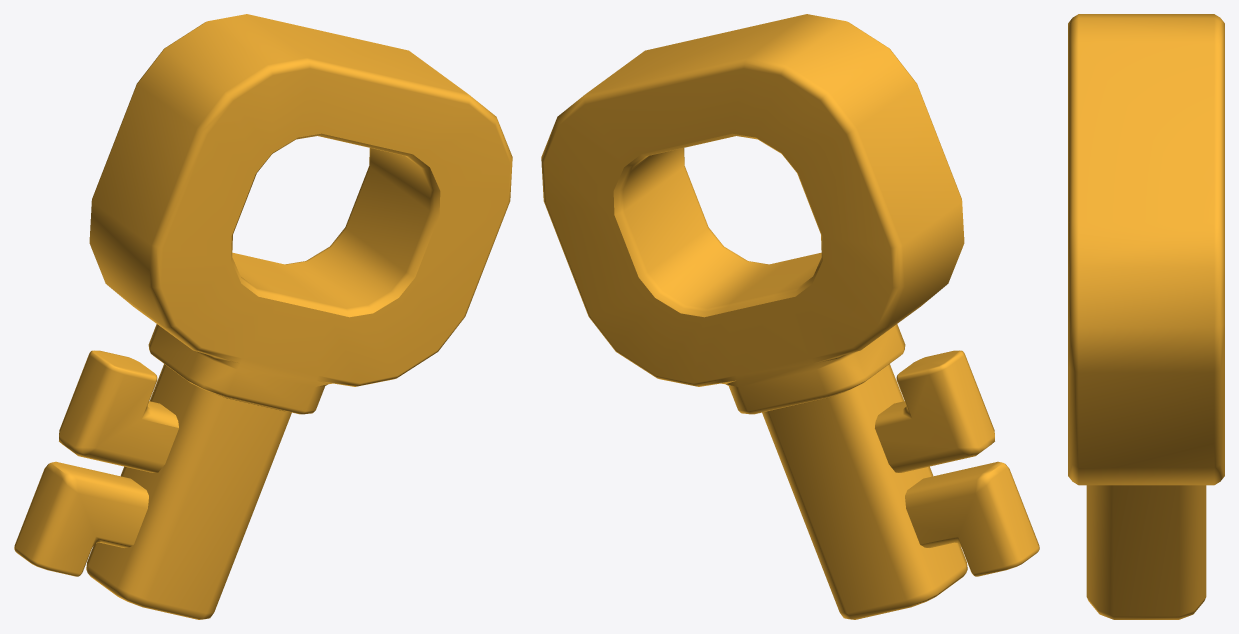
3 views of the same model, side by side, from view 1: azimuth 30°, elevation 25°; view 2: azimuth 150°, elevation 25°; view 3: azimuth 270°, elevation 25° (orthographic). The views are drawn at different scales.
Visible parts, largest first — view 1: model_0.084; view 2: model_0.084; view 3: model_0.084.
Boxes of the visible parts, x1,y1,x2,y2 form: model_0.084: [14, 14, 512, 619]; model_0.084: [541, 14, 1039, 619]; model_0.084: [1068, 14, 1224, 619].
Bounding box in the file's own units: 3.57 × 4.09 × 0.9279.
